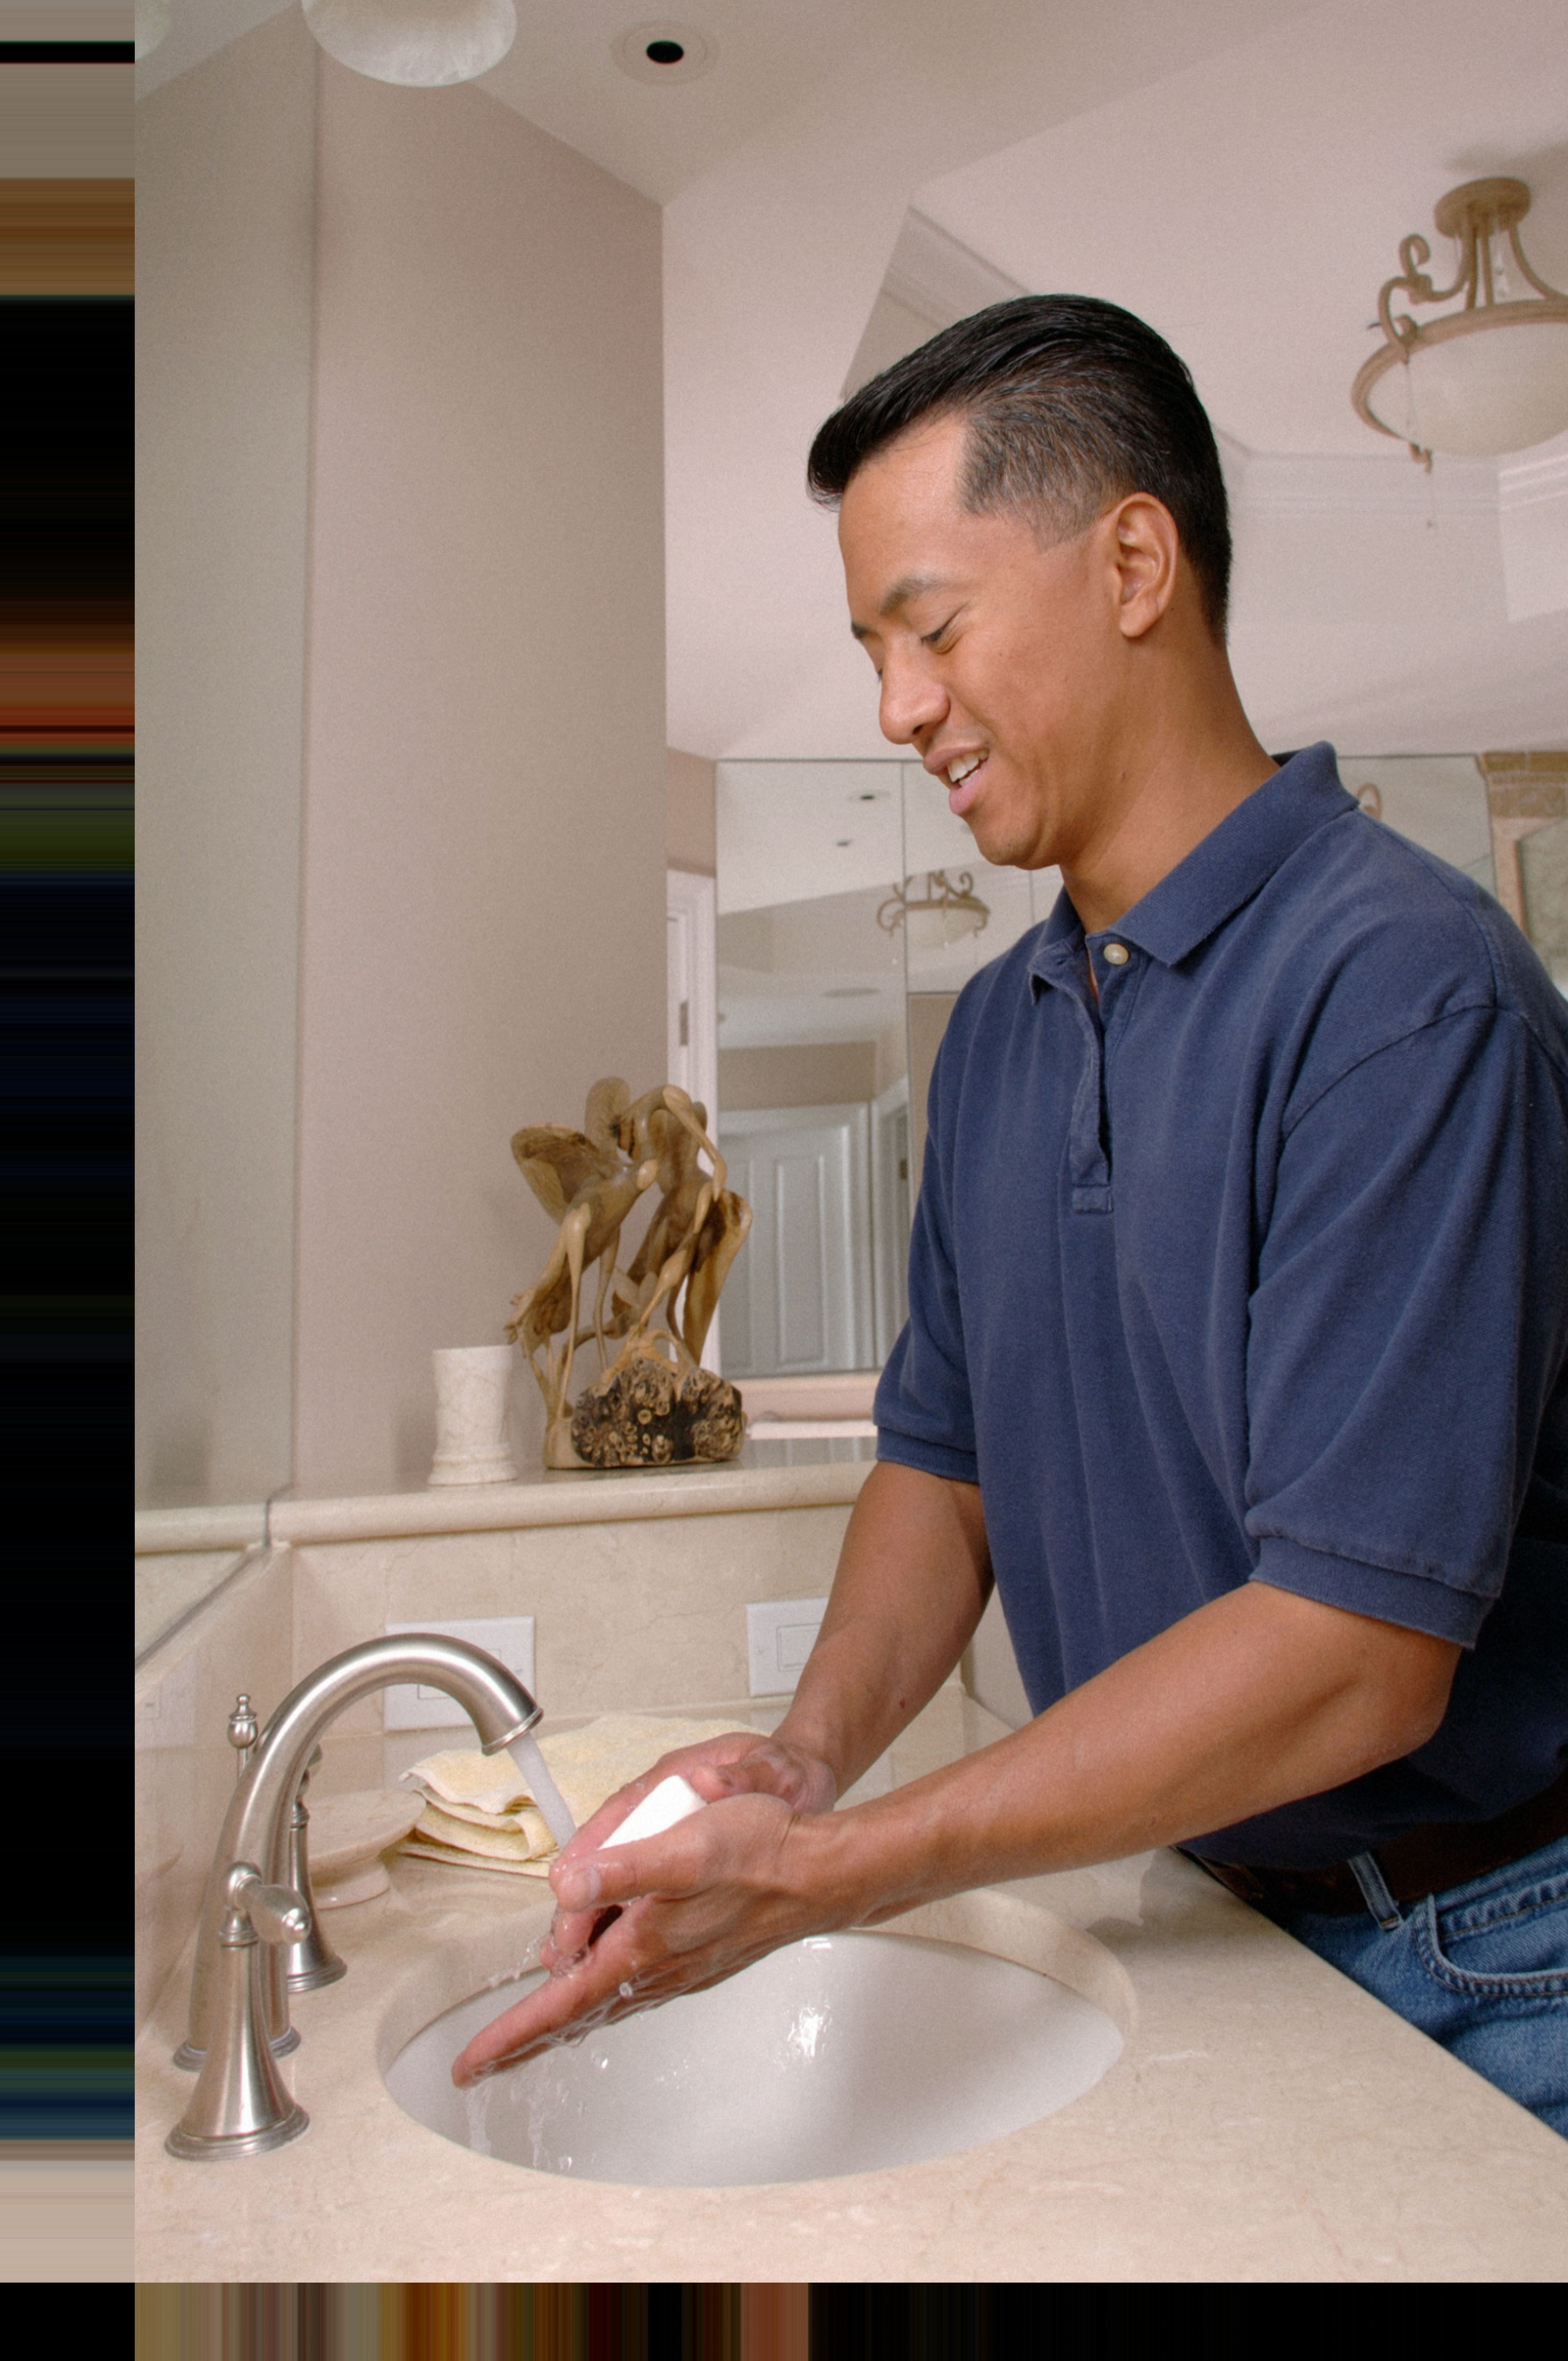washing hand: (157, 1456, 817, 2153)
